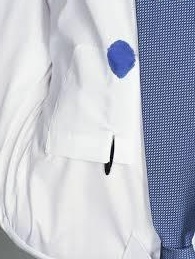ink: (106, 40, 134, 78)
